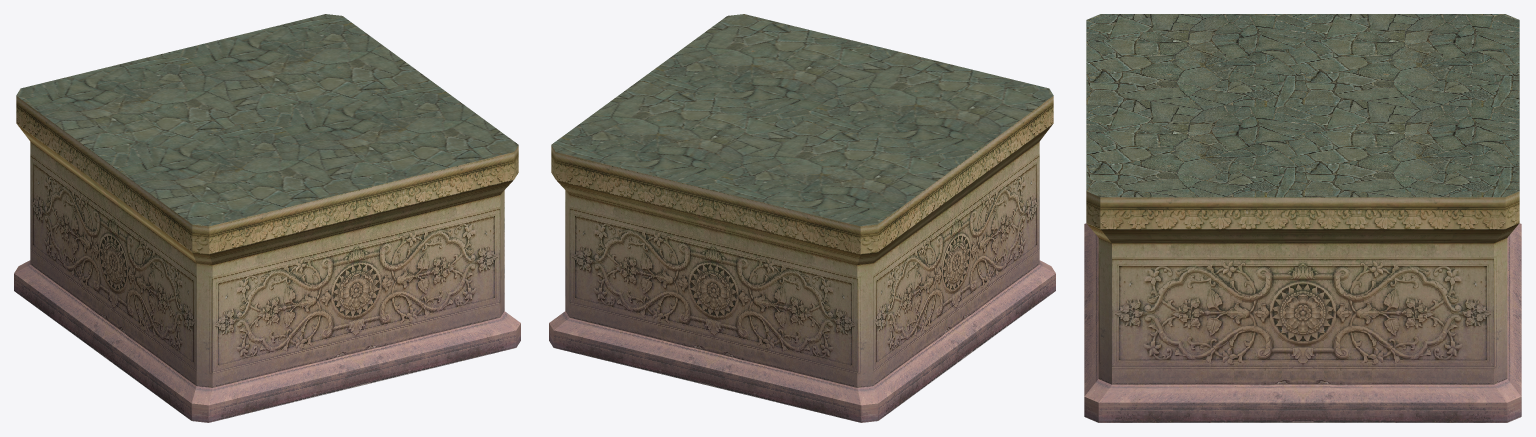
The model's file is stoneBci.glb.
3 renders of one model, left to right at view 1: azimuth 30°, elevation 25°; view 2: azimuth 150°, elevation 25°; view 3: azimuth 270°, elevation 25°, orthographic. The views are drawn at different scales.
Parts seen in each view (by area): view 1: bake; view 2: bake; view 3: bake.
Boxes of the visible parts, left/top/right/bottom form: bake: left=14, top=14, right=520, bottom=422; bake: left=549, top=14, right=1055, bottom=422; bake: left=1084, top=14, right=1521, bottom=422.
Size of the model in its own units: 8.07 by 4.58 by 8.07.
2 materials, 2 textured.
